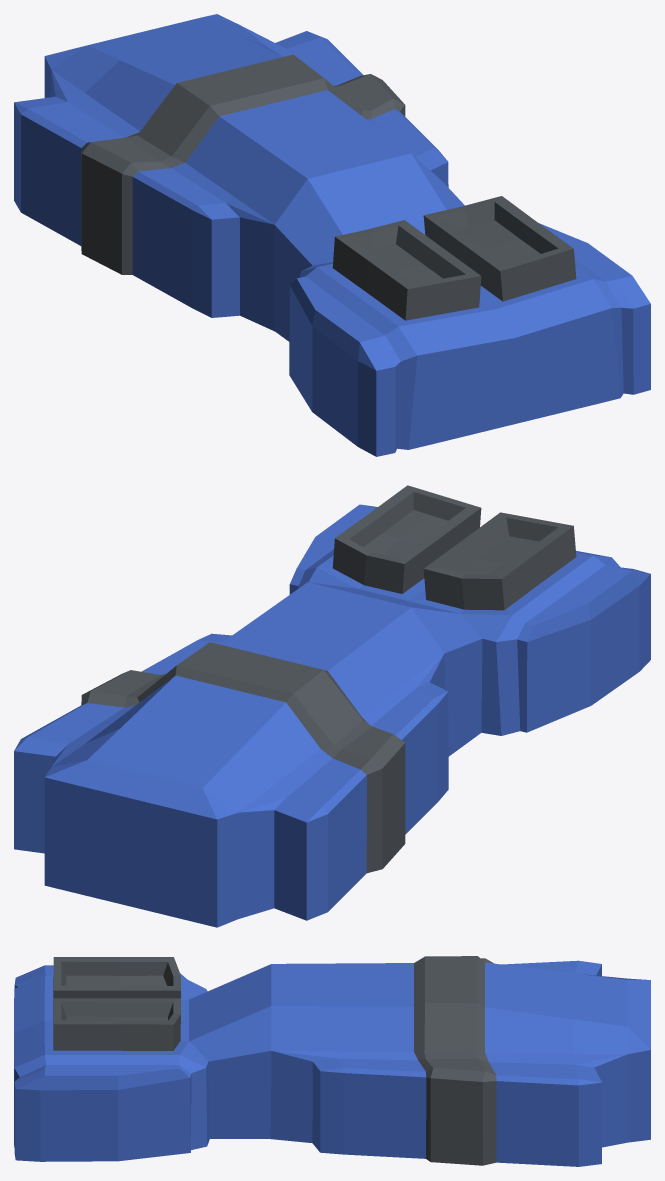
The model's file is Fighter_10_Hatch_Blue.fbx.
3 views of the same model, one above another, from view 1: azimuth 30°, elevation 25°; view 2: azimuth 150°, elevation 25°; view 3: azimuth 270°, elevation 25° (orthographic). The views are drawn at different scales.
Parts seen in each view (by area): view 1: Fighter_10_Hatch_Blue; view 2: Fighter_10_Hatch_Blue; view 3: Fighter_10_Hatch_Blue.
Part boxes in pixels (x1=…): Fighter_10_Hatch_Blue: x1=14, y1=14, x2=650, y2=456; Fighter_10_Hatch_Blue: x1=14, y1=485, x2=650, y2=927; Fighter_10_Hatch_Blue: x1=14, y1=956, x2=650, y2=1166.
Bounding box in the file's own units: 341 × 160 × 737.
1 material, 1 textured.
